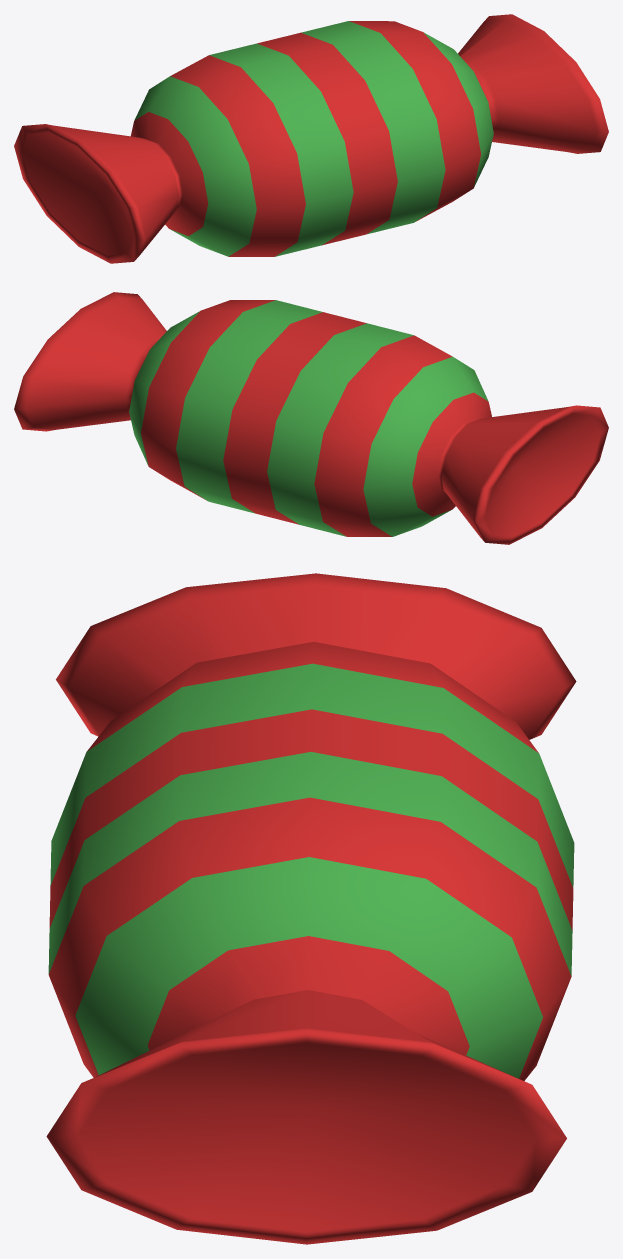
Rendered from candy_2.fbx.
3 views of the same model, one above another, from view 1: azimuth 30°, elevation 25°; view 2: azimuth 150°, elevation 25°; view 3: azimuth 270°, elevation 25° (orthographic). The views are drawn at different scales.
Parts seen in each view (by area): view 1: candy_2; view 2: candy_2; view 3: candy_2.
Boxes of the visible parts, <box> form: candy_2: <box>14,14,608,263</box>; candy_2: <box>14,292,608,544</box>; candy_2: <box>46,573,576,1244</box>.
Size of the model in its own units: 20.46 by 7.48 by 10.06.
